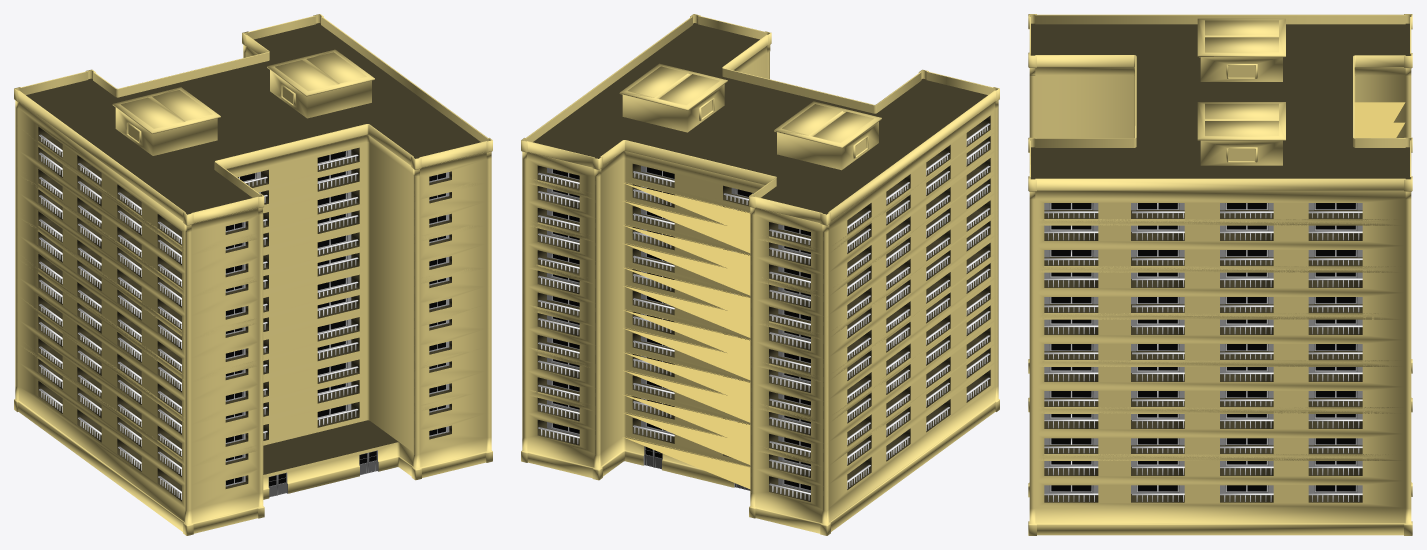
Rendered from school.obj.
3 views of the same model, side by side, from view 1: azimuth 30°, elevation 25°; view 2: azimuth 150°, elevation 25°; view 3: azimuth 270°, elevation 25° (orthographic). The views are drawn at different scales.
Visible parts, largest first — view 1: object1, object2, object16, object3, object11, object13, object14, object10, object7, object9; view 2: object1, object2, object6, object16, object11, object3, object13, object14, object10, object9, object7, object8; view 3: object1, object2, object3, object11, object14, object16, object13, object10, object9, object7, object8, object6.
Part boxes in pixels (x1,y1,x2,y2): object1: [14, 14, 492, 510]; object2: [26, 23, 480, 474]; object16: [38, 126, 451, 501]; object3: [14, 14, 492, 535]; object11: [39, 134, 358, 499]; object13: [112, 49, 374, 155]; object14: [226, 151, 445, 486]; object10: [225, 150, 446, 486]; object7: [226, 151, 446, 485]; object9: [226, 149, 449, 486]; object1: [521, 14, 999, 510]; object2: [533, 23, 990, 458]; object6: [623, 182, 750, 488]; object16: [537, 115, 990, 501]; object11: [538, 123, 990, 500]; object3: [521, 14, 999, 535]; object13: [619, 63, 881, 170]; object14: [553, 167, 810, 490]; object10: [551, 167, 810, 492]; object9: [547, 165, 810, 492]; object7: [552, 167, 810, 490]; object8: [551, 167, 810, 491]; object1: [1028, 14, 1412, 508]; object2: [1030, 23, 1409, 453]; object3: [1028, 14, 1412, 535]; object11: [1044, 211, 1362, 501]; object14: [1051, 203, 1355, 491]; object16: [1044, 232, 1362, 502]; object13: [1197, 18, 1285, 165]; object10: [1049, 203, 1357, 493]; object9: [1044, 203, 1362, 493]; object7: [1050, 203, 1356, 491]; object8: [1050, 203, 1357, 492]; object6: [1354, 102, 1405, 137].
Bounding box in the file's own units: 2.42 × 2.55 × 2.37.
